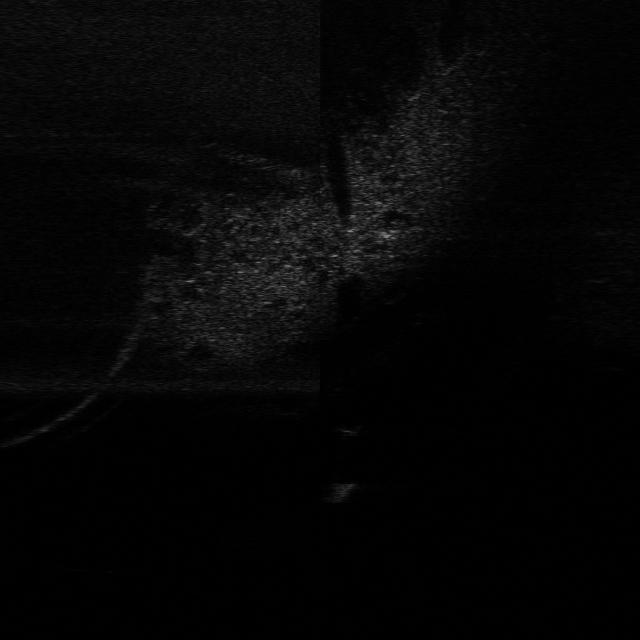cube: (336, 414, 366, 438)
cylinder: (323, 477, 358, 507)
